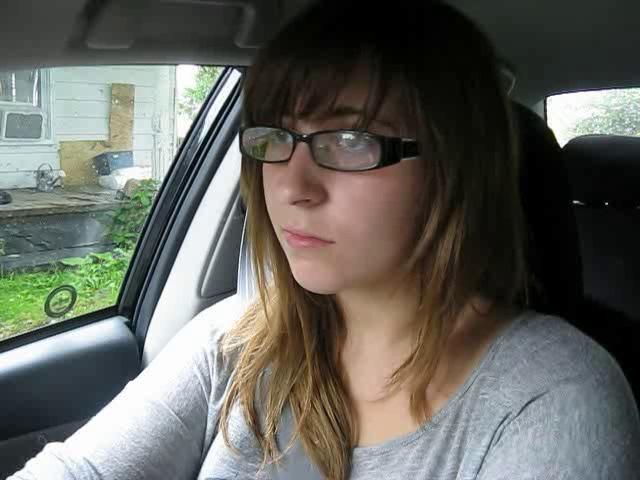no_yawn: (266, 215, 349, 265)
open_eyeL: (252, 122, 300, 159)
open_eyeR: (310, 120, 389, 170)
